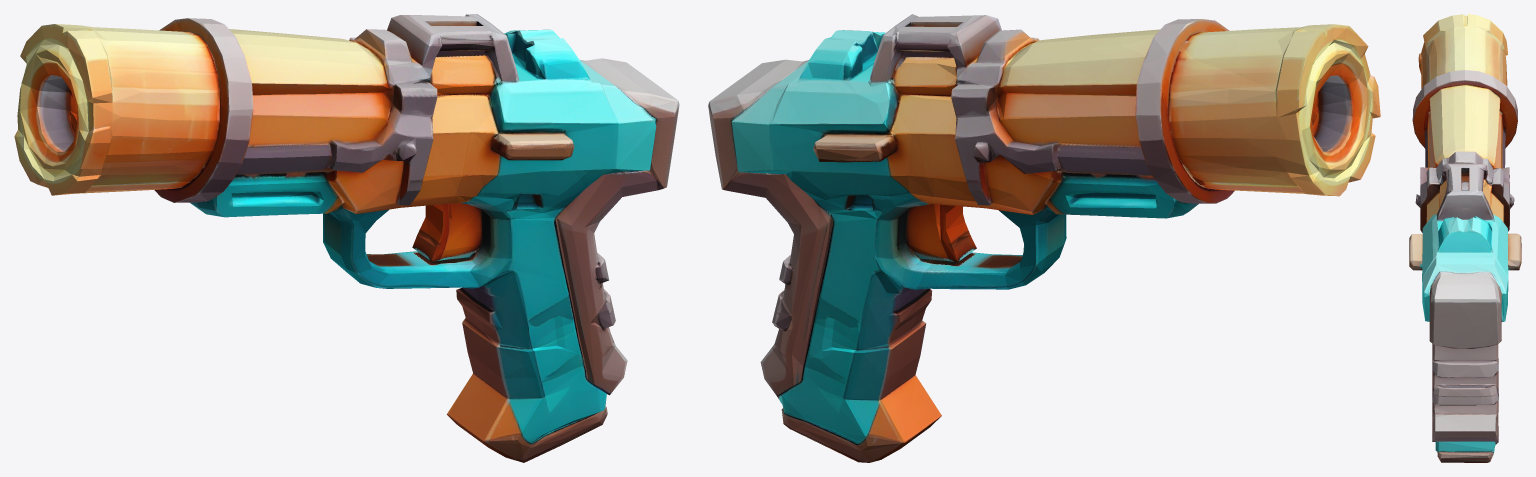
Rendered from tripo_convert_82618a40-b83c-443e-91ba-c44187abed43.fbx.
3 views of the same model, side by side, from view 1: azimuth 30°, elevation 25°; view 2: azimuth 150°, elevation 25°; view 3: azimuth 270°, elevation 25° (orthographic). The views are drawn at different scales.
Parts seen in each view (by area): view 1: tripo_node_82618a40; view 2: tripo_node_82618a40; view 3: tripo_node_82618a40.
Boxes of the visible parts, x1=… form: tripo_node_82618a40: x1=14, y1=14, x2=679, y2=462; tripo_node_82618a40: x1=708, y1=14, x2=1380, y2=462; tripo_node_82618a40: x1=1409, y1=14, x2=1521, y2=462.
Bounding box in the file's own units: 1 × 0.8201 × 0.2684.
